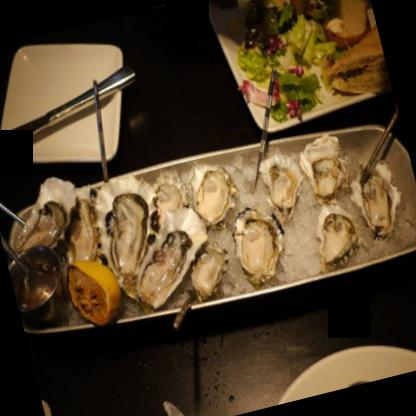oyster: (121, 197, 226, 318), (86, 168, 178, 302), (0, 178, 87, 261), (348, 157, 409, 239), (228, 206, 288, 286), (299, 140, 354, 202), (192, 164, 243, 228), (262, 151, 310, 218), (186, 239, 232, 307), (312, 211, 359, 267)
